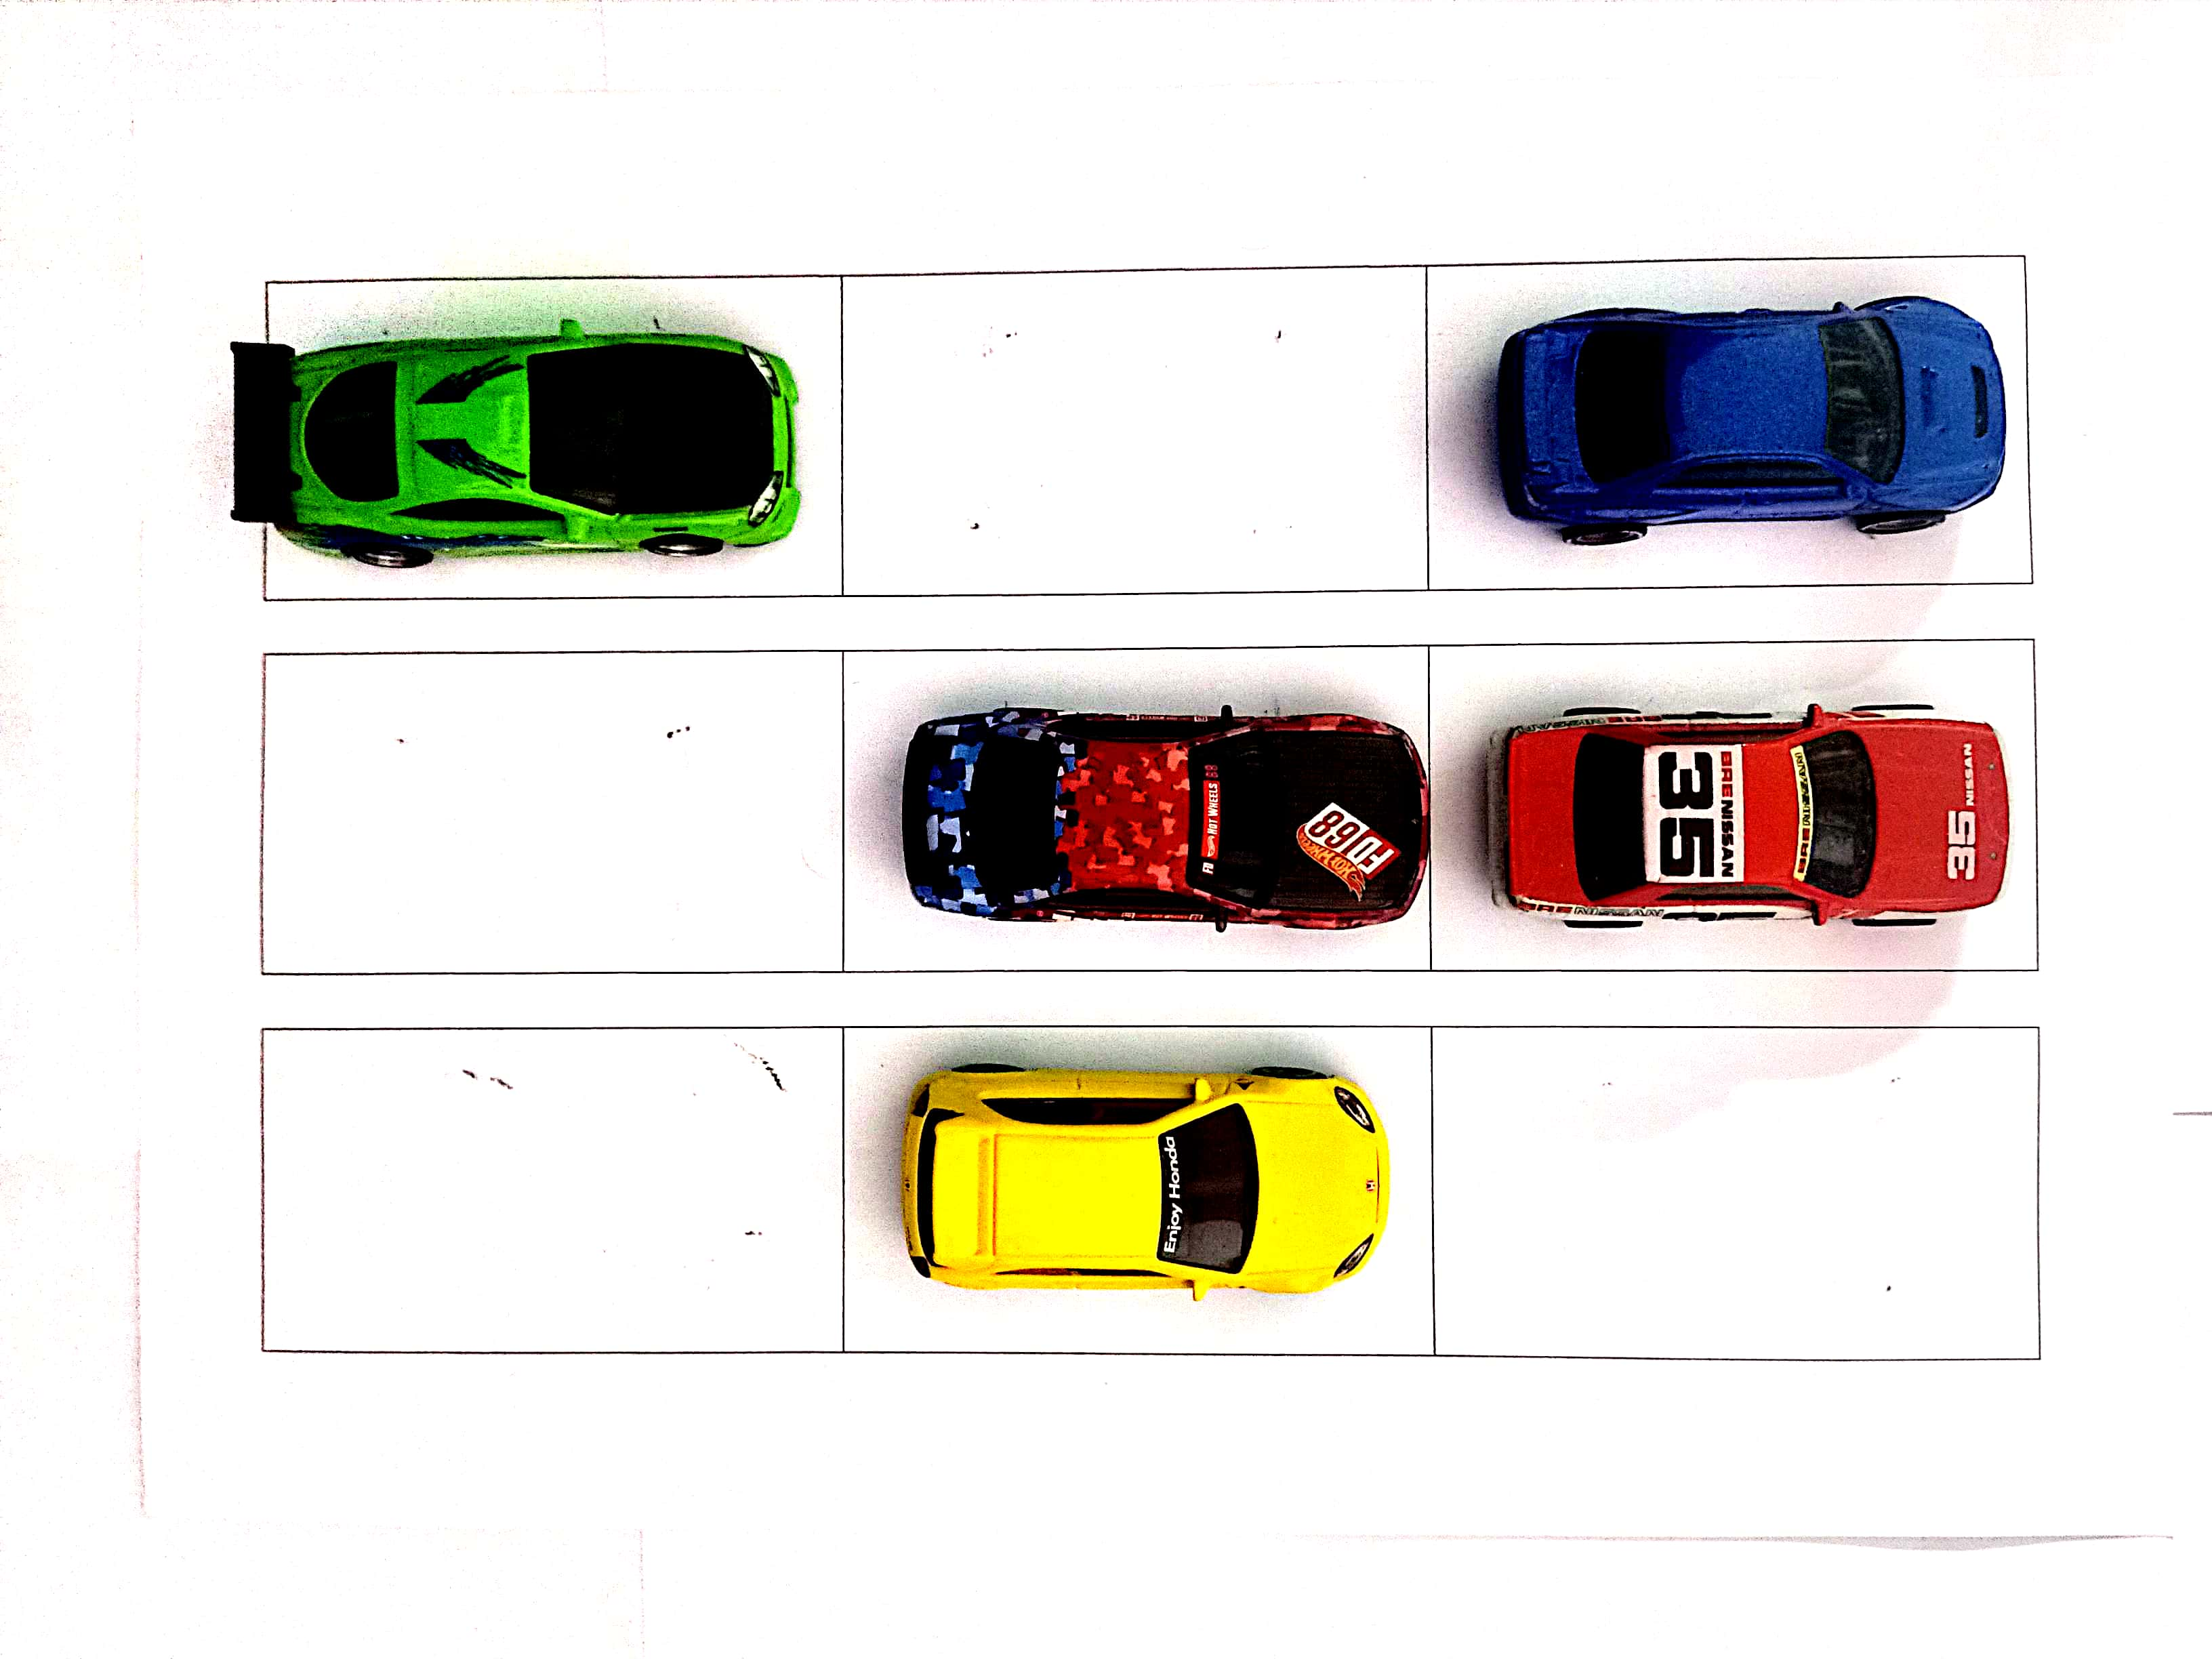Busy: (1423, 253, 2026, 589), (1432, 640, 2034, 967), (843, 657, 1440, 976), (845, 1028, 1433, 1349), (261, 281, 840, 593)
Free: (261, 1028, 845, 1354), (1442, 1028, 2038, 1345), (261, 657, 836, 979), (836, 275, 1423, 584)
